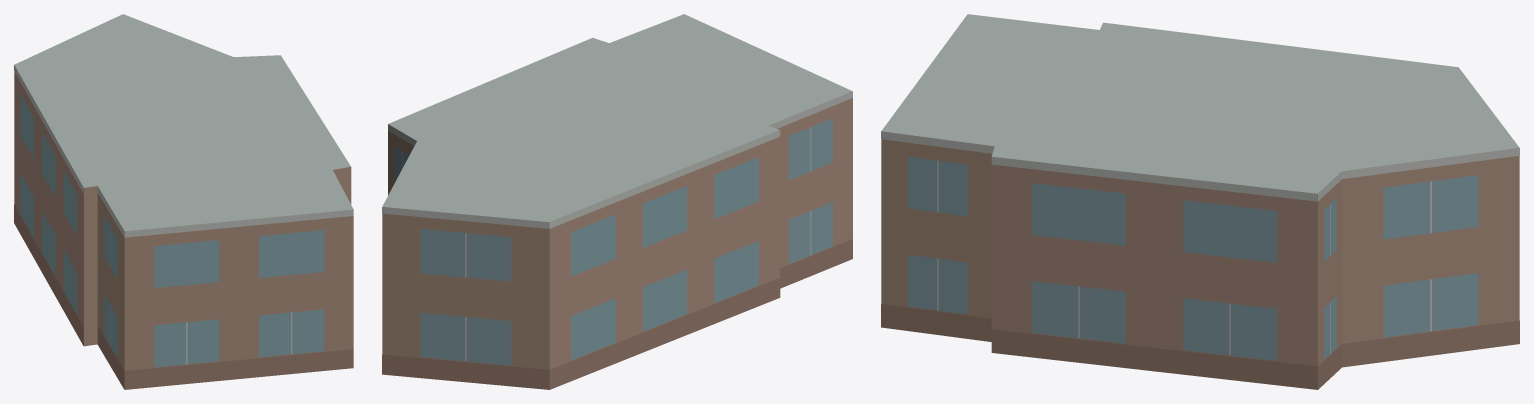
File: survey-upis-32699209.glb
The picture shows the model from 3 angles, left to right: view 1: azimuth 30°, elevation 25°; view 2: azimuth 150°, elevation 25°; view 3: azimuth 270°, elevation 25°; orthographic projection. The views are drawn at different scales.
Parts seen in each view (by area): view 1: survey-upis-32699209.tmp; view 2: survey-upis-32699209.tmp; view 3: survey-upis-32699209.tmp.
Boxes of the visible parts, x1,y1,x2,y2 form: survey-upis-32699209.tmp: (14,14,353,389); survey-upis-32699209.tmp: (382,14,852,389); survey-upis-32699209.tmp: (881,14,1519,389).
Size of the model in its own units: 12 by 6.1 by 18.02.
